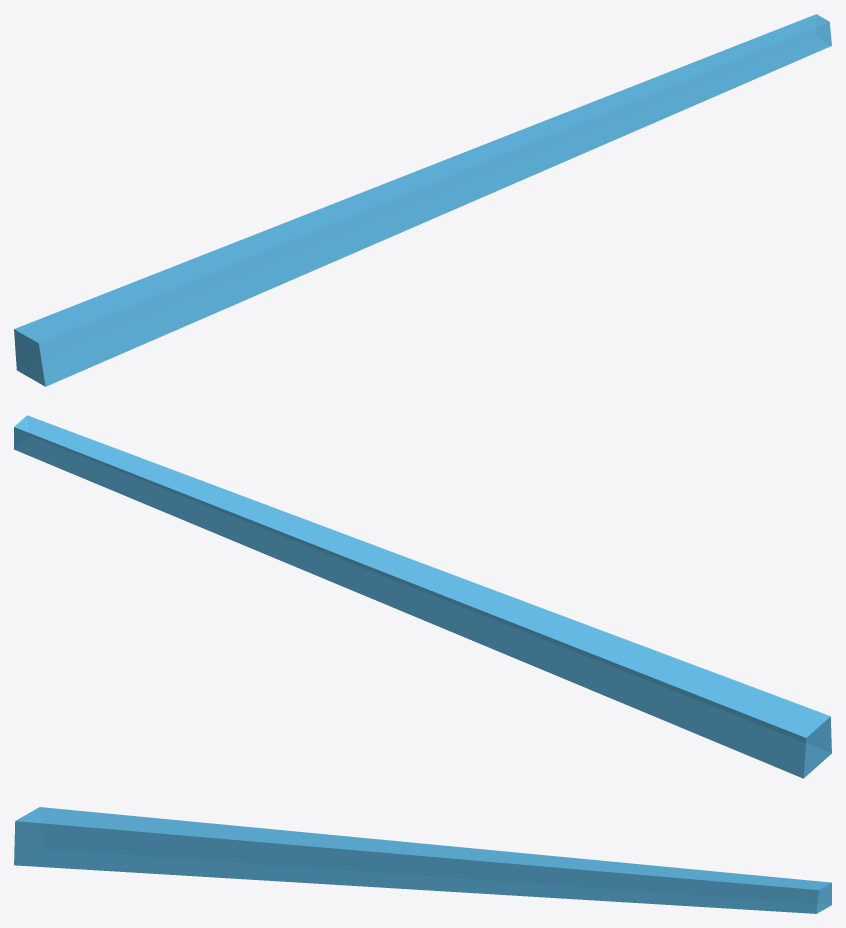
Rendered from Event_421278790_HErechit_6.fbx.
3 renders of one model, top to bottom at view 1: azimuth 30°, elevation 25°; view 2: azimuth 150°, elevation 25°; view 3: azimuth 330°, elevation 25°, orthographic.
Parts seen in each view (by area): view 1: Model; view 2: Model; view 3: Model.
Boxes of the visible parts, left/top/right/bottom form: Model: left=14, top=14, right=831, bottom=386; Model: left=14, top=415, right=831, bottom=778; Model: left=14, top=807, right=831, bottom=913.
Bounding box in the file's own units: 8.7 × 1.69 × 0.5408.
